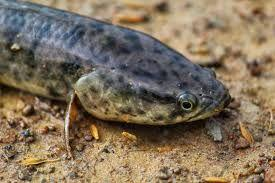Snakehead: (0, 0, 231, 158)
